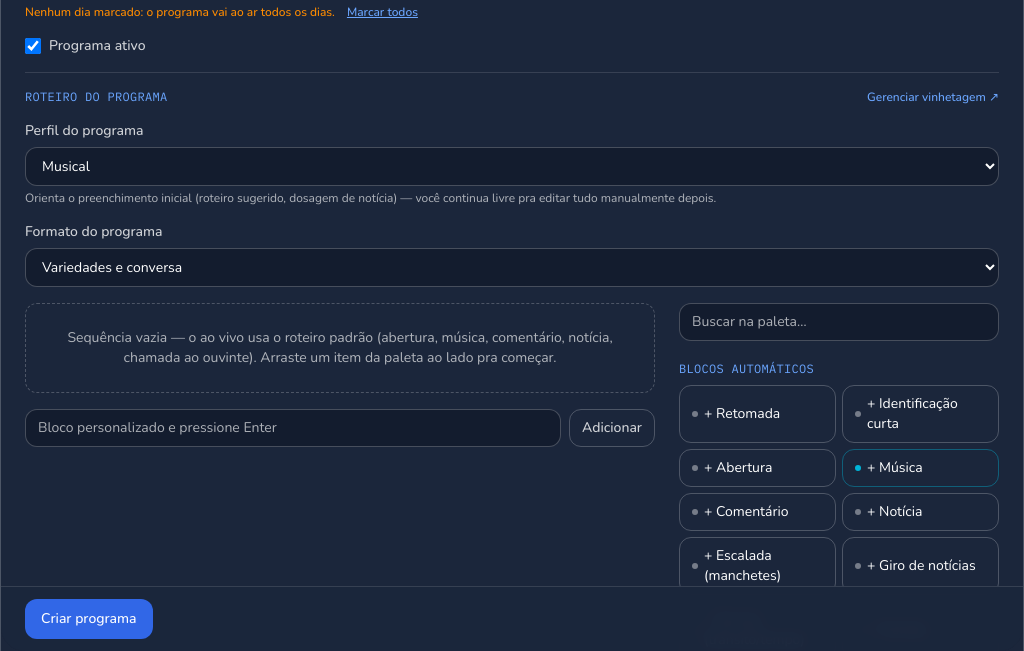
Test: permite selecionar o formato musical e aplicar seu roteiro sem comentários extras
The width and height of the screenshot is (1024, 651).
(page scrolled)
Select "Musical de companhia" in the dropdown labelled "Formato do programa" at x=512, y=267, box [25,248,999,287]
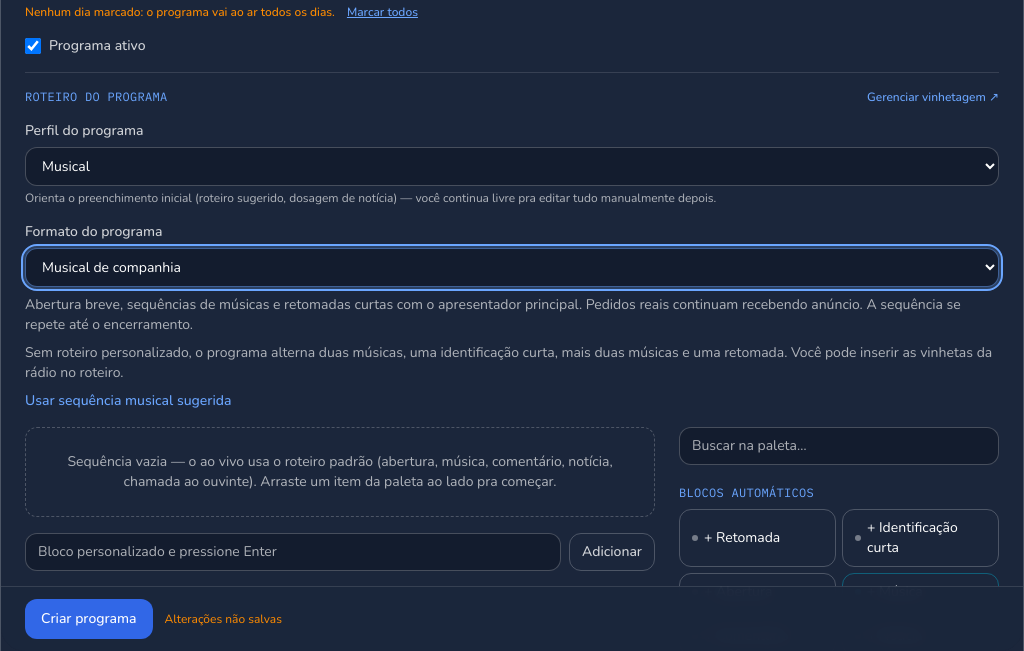
Check: the text "Pedidos reais continuam recebendo anúncio" is shown, box [25,295,961,334]
Click the button "Usar sequência musical sugerida" at x=128, y=401, box [25,391,231,411]
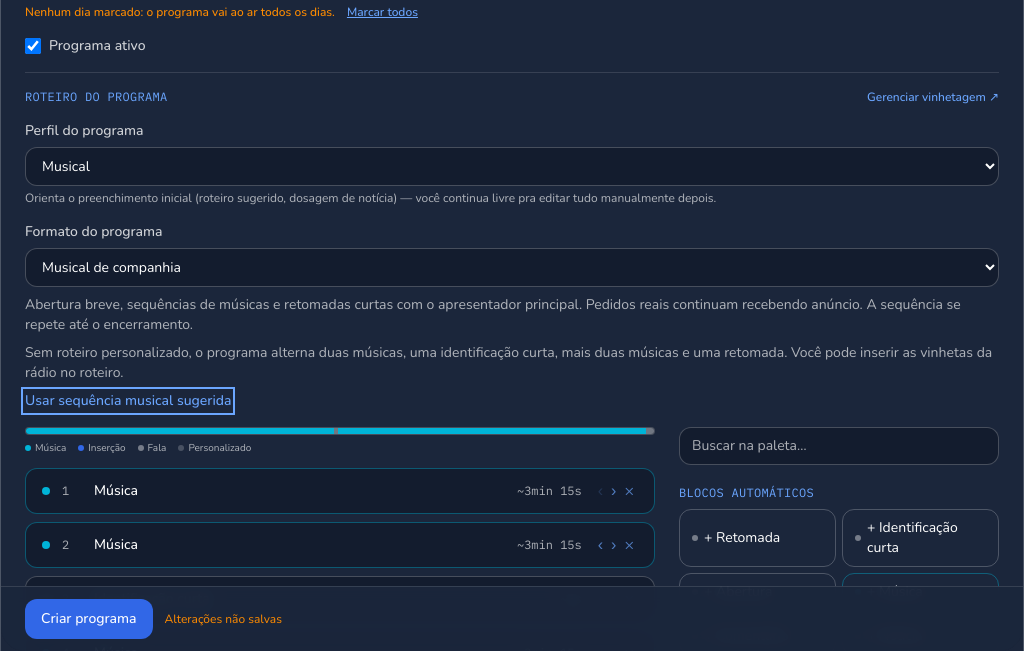
Check: the text "Sequência vazia" is gone
Select "Variedades e conversa" in the dropdown labelled "Formato do programa" at x=512, y=267, box [25,248,999,287]
(page scrolled)
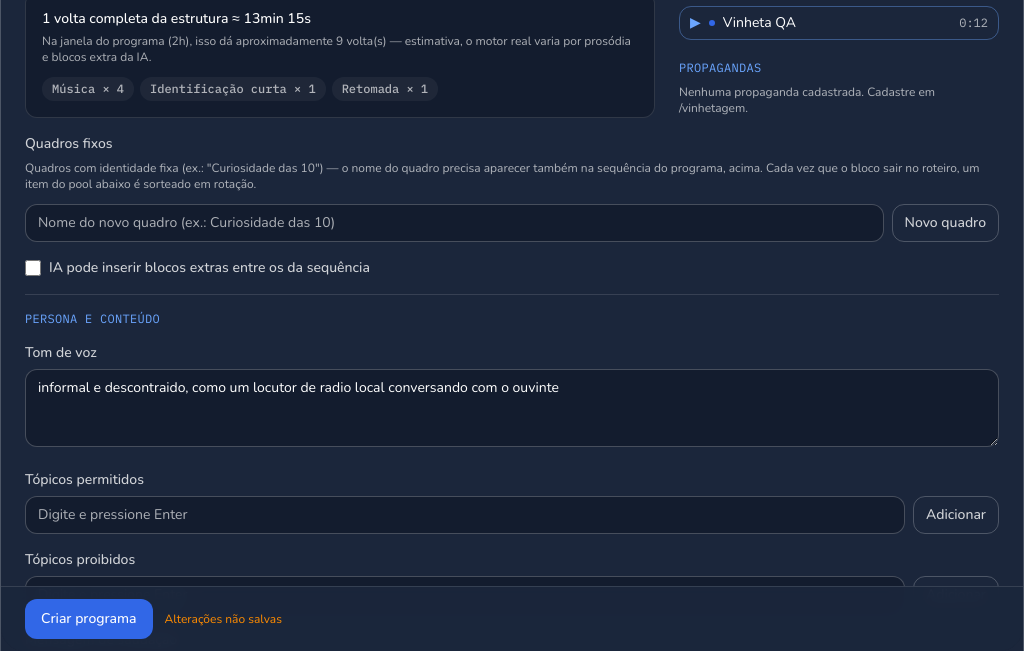
Check: the checkbox labelled "IA pode inserir blocos extras entre os da sequência" is enabled, box [25,260,41,276]
